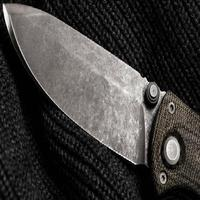knife: (3, 3, 179, 157)
